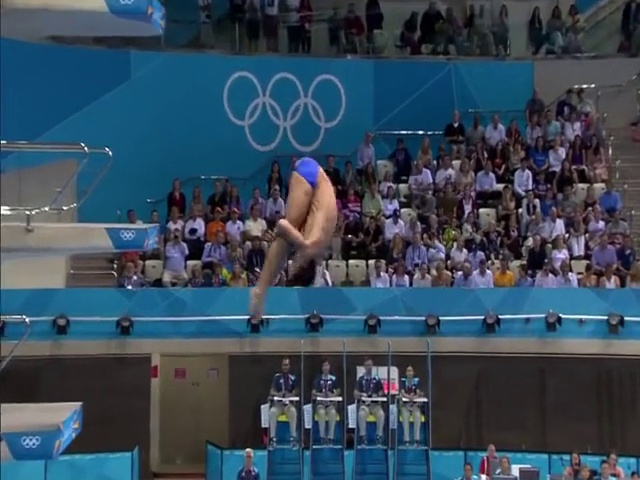diver: (249, 158, 339, 326)
